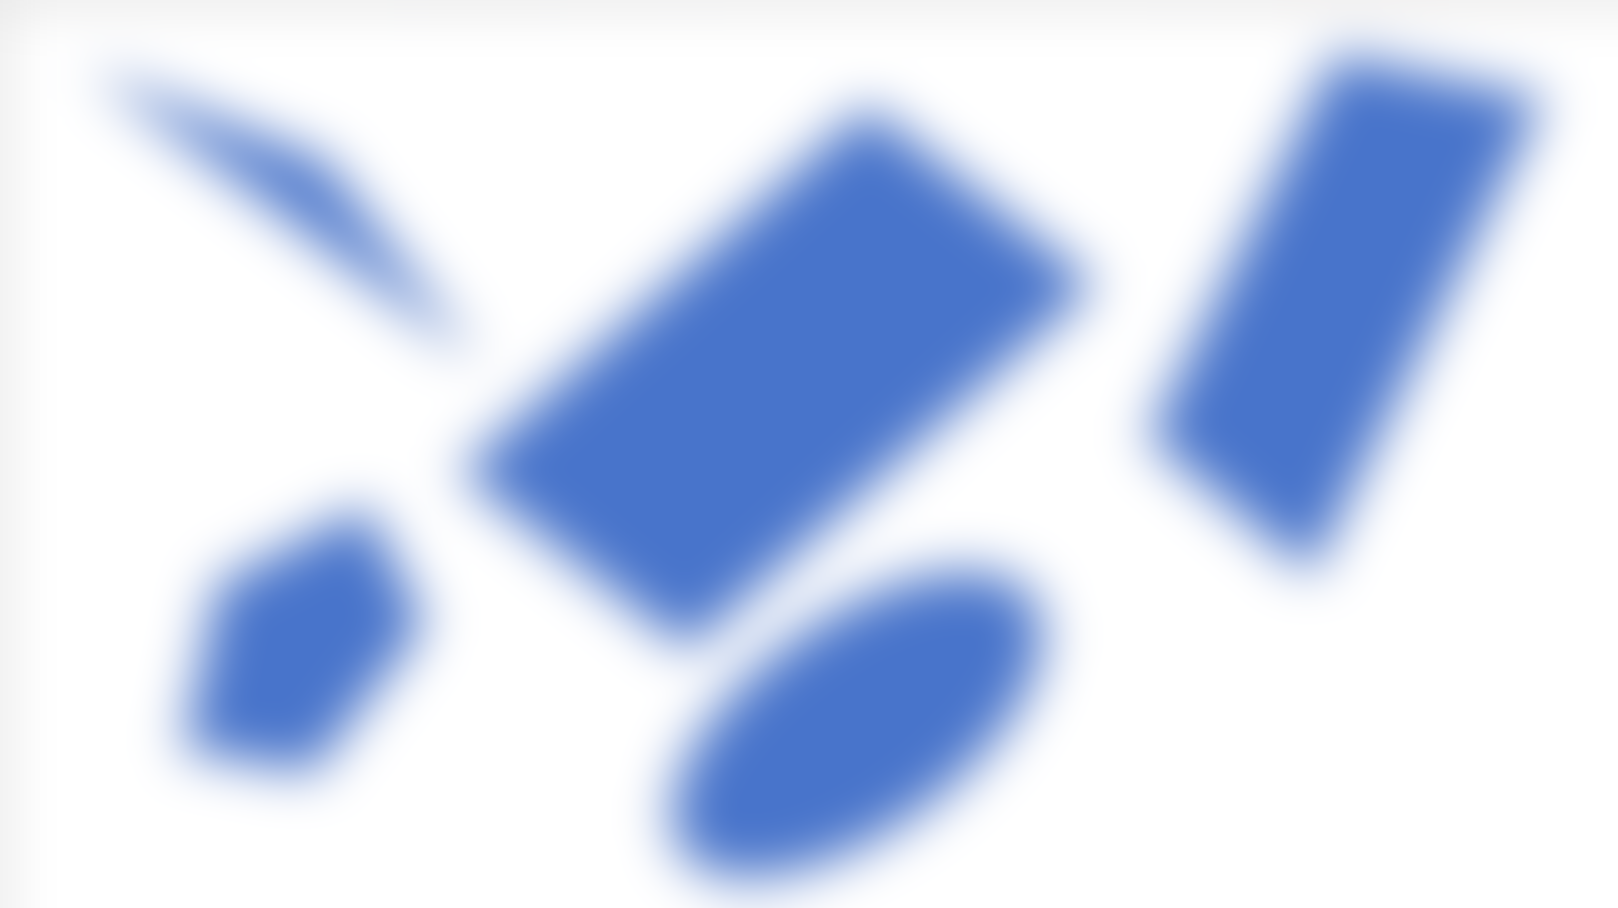circle: (643, 557, 1083, 886)
parallelogram: (442, 84, 1115, 641)
pentagon: (176, 513, 433, 780)
trapezium: (1138, 30, 1558, 580)
triangle: (67, 32, 492, 402)
